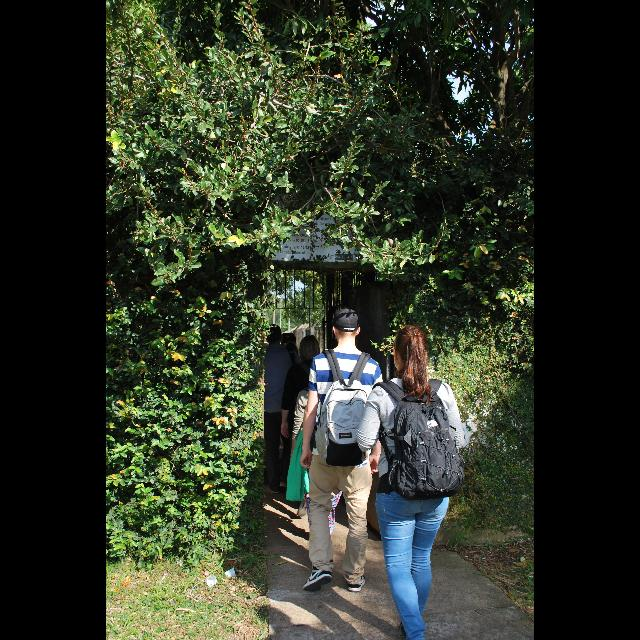head: (394, 328, 428, 370), (332, 310, 362, 342), (299, 334, 321, 362), (313, 361, 333, 384), (265, 324, 283, 344)
person: (298, 307, 388, 597), (282, 358, 358, 568), (279, 333, 335, 519), (256, 322, 294, 496)
